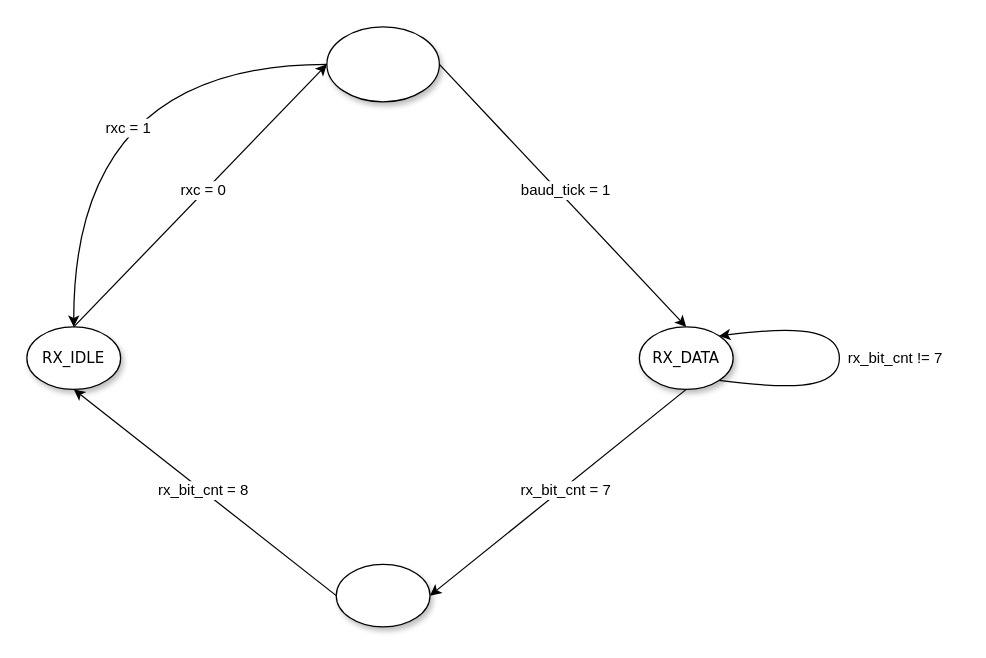
The diagram is 986 pixels wide and 658 high, and some of its shapes have lost their labels. Each missing label, with the centre of its shape:
RX_DONE: pixel 384 597
RX_HALF: pixel 384 66
